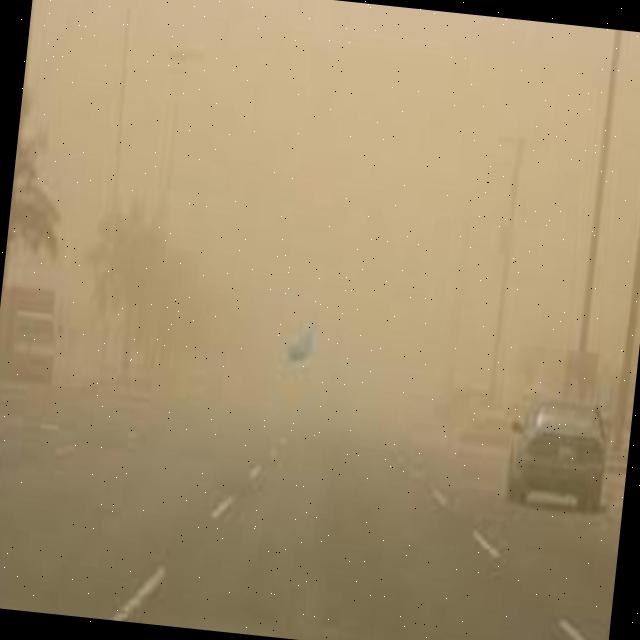bus: (0, 279, 64, 381)
car: (502, 395, 612, 512)
